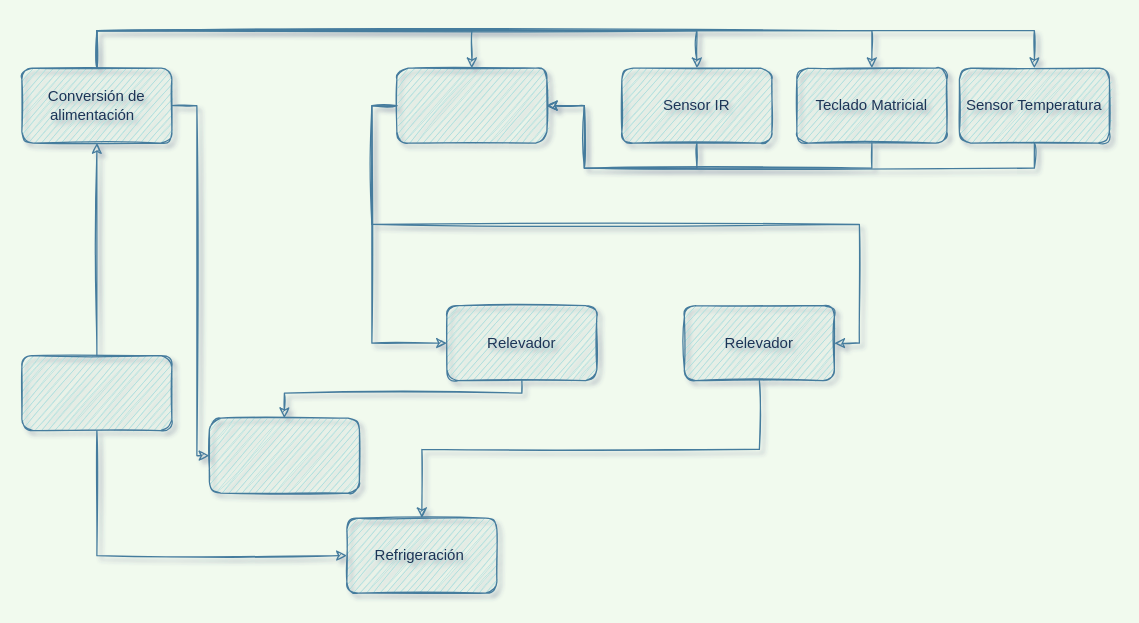
Image size: 1139x623. Some labels were removed from this diagram. Each missing label, with the box of its shape:
Alimentación: (21, 354, 172, 431)
Banda de transporte: (208, 417, 359, 493)
Microcontrolador: (396, 67, 547, 143)
